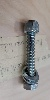FinishedAssembly: (19, 16, 44, 93)
